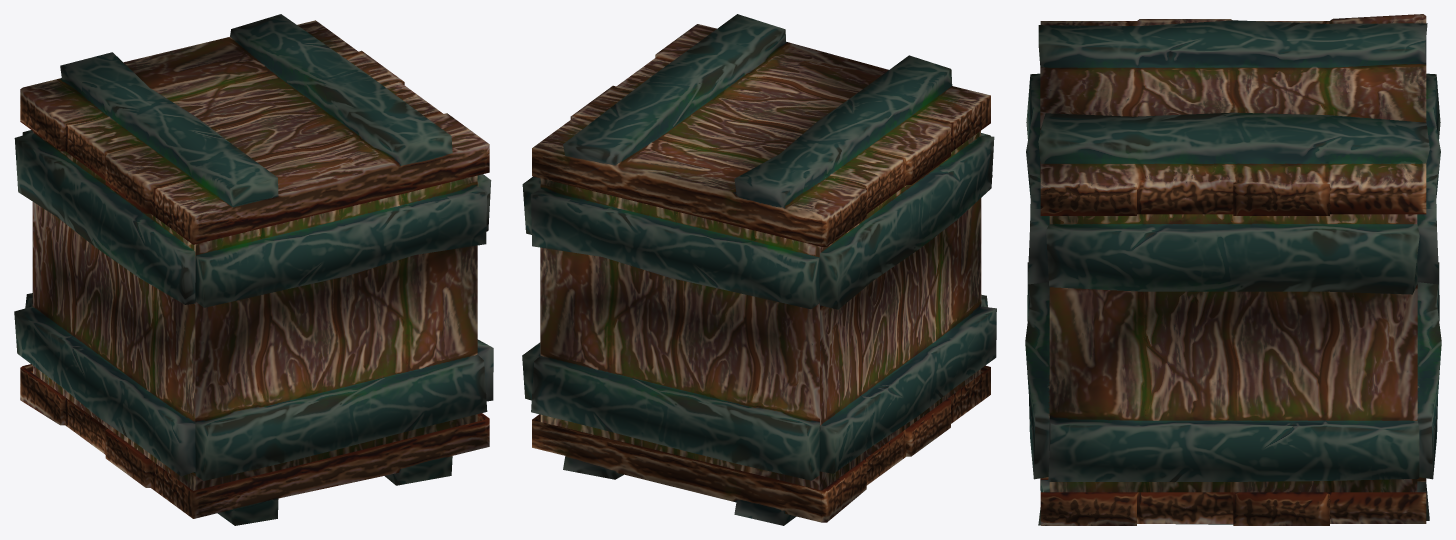
File: Heavy_Item.fbx
3 renders of one model, left to right at view 1: azimuth 30°, elevation 25°; view 2: azimuth 150°, elevation 25°; view 3: azimuth 270°, elevation 25°, orthographic. The views are drawn at different scales.
Visible parts, largest first — view 1: Heavy_Item; view 2: Heavy_Item; view 3: Heavy_Item.
Part boxes in pixels (box(x1,y1,x2,y2)): Heavy_Item: box(14, 14, 493, 525); Heavy_Item: box(522, 14, 996, 525); Heavy_Item: box(1025, 14, 1441, 525).
Size of the model in its own units: 19.99 by 20.53 by 19.99.
